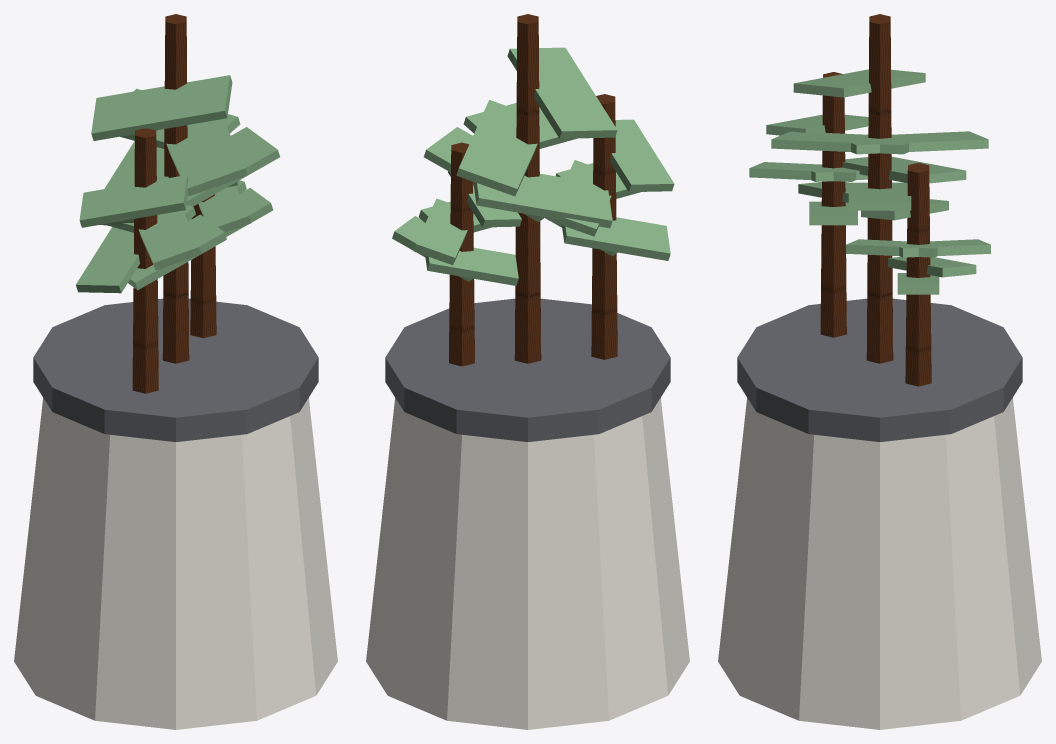
File: potted_plant_in_a_can.glb
3 renders of one model, left to right at view 1: azimuth 30°, elevation 25°; view 2: azimuth 150°, elevation 25°; view 3: azimuth 270°, elevation 25°, orthographic.
Visible parts, largest first — view 1: potted-plant-in-can-cream, potted-plant-in-can-charcoal, potted-plant-in-can-leaf, potted-plant-in-can-darkwood; view 2: potted-plant-in-can-cream, potted-plant-in-can-leaf, potted-plant-in-can-charcoal, potted-plant-in-can-darkwood; view 3: potted-plant-in-can-cream, potted-plant-in-can-charcoal, potted-plant-in-can-leaf, potted-plant-in-can-darkwood.
Boxes of the visible parts, x1,y1,x2,y2 form: potted-plant-in-can-cream: (14,397,337,729); potted-plant-in-can-charcoal: (33,298,318,441); potted-plant-in-can-leaf: (76,75,279,293); potted-plant-in-can-darkwood: (132,14,216,393); potted-plant-in-can-cream: (366,397,689,729); potted-plant-in-can-leaf: (392,47,674,285); potted-plant-in-can-charcoal: (385,298,670,441); potted-plant-in-can-darkwood: (449,14,617,366); potted-plant-in-can-cream: (718,397,1041,729); potted-plant-in-can-charcoal: (737,298,1022,441); potted-plant-in-can-leaf: (749,69,990,294); potted-plant-in-can-darkwood: (820,14,931,386).
Size of the model in its own units: 0.42 by 0.9188 by 0.42.
4 materials, 1 textured.
